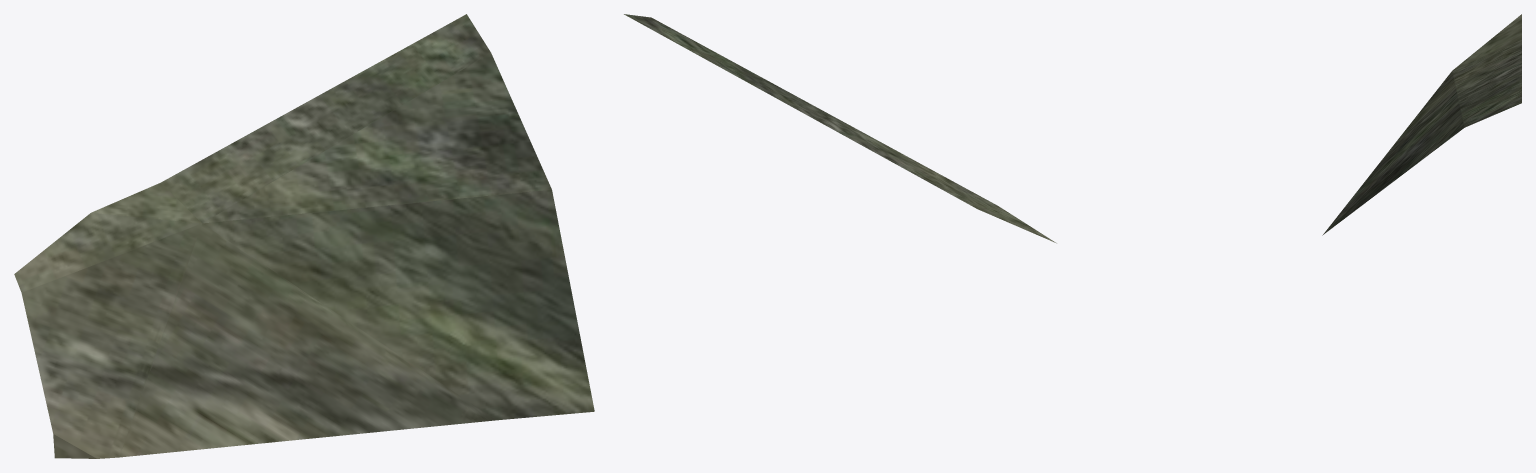
The picture shows the model from 3 angles, left to right: view 1: azimuth 30°, elevation 25°; view 2: azimuth 150°, elevation 25°; view 3: azimuth 270°, elevation 25°; orthographic projection. The views are drawn at different scales.
Size of the model in its own units: 5.9 by 3.79 by 2.89.
2 materials, 2 textured.
